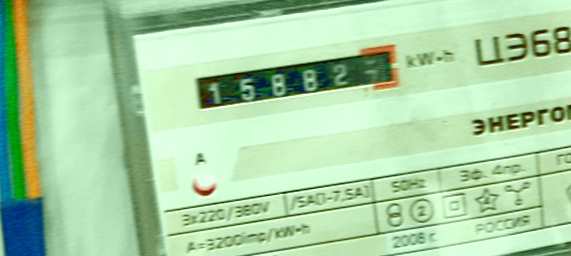1: (206, 84, 223, 110)
2: (330, 64, 349, 92)
5: (236, 79, 256, 106)
7: (362, 70, 378, 88)
8: (267, 75, 287, 101), (299, 69, 318, 96)
screen: (179, 39, 411, 128)
